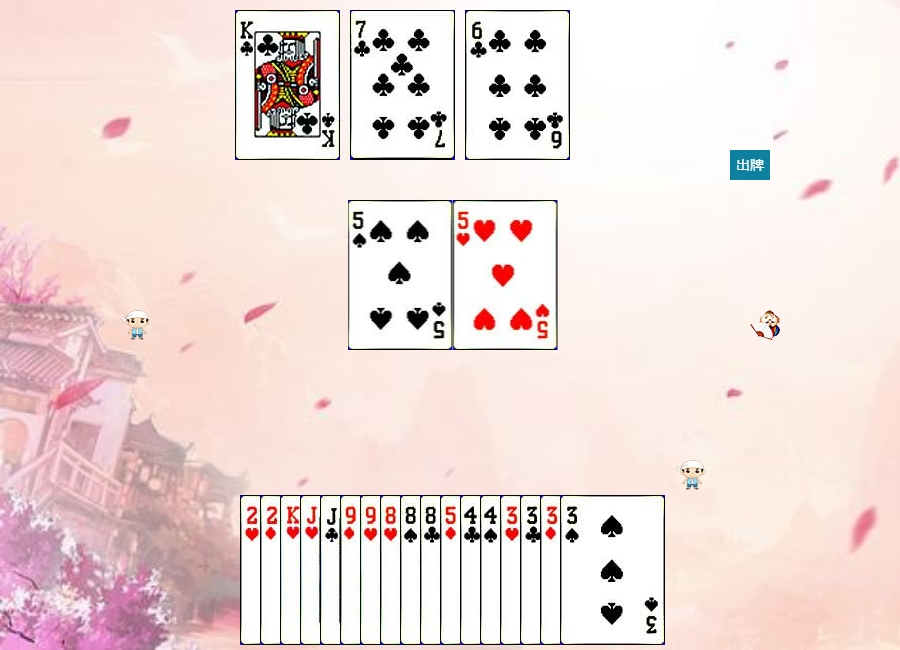11~2: (320, 495, 425, 645)
11~3: (300, 495, 405, 645)
13~2: (235, 10, 340, 160)
13~3: (280, 495, 385, 645)
15~1: (260, 495, 365, 645)
15~3: (240, 495, 345, 645)
3~1: (540, 495, 645, 645)
3~2: (520, 495, 625, 645)
3~3: (500, 495, 605, 645)
3~4: (560, 495, 665, 645)
4~2: (460, 495, 565, 645)
4~4: (480, 495, 585, 645)
5~1: (440, 495, 545, 645)
5~3: (453, 200, 558, 350)
5~4: (348, 200, 453, 350)
6~2: (465, 10, 570, 160)
7~2: (350, 10, 455, 160)
8~2: (420, 495, 525, 645)
8~3: (380, 495, 485, 645)
8~4: (400, 495, 505, 645)
9~1: (340, 495, 445, 645)
9~3: (360, 495, 465, 645)
